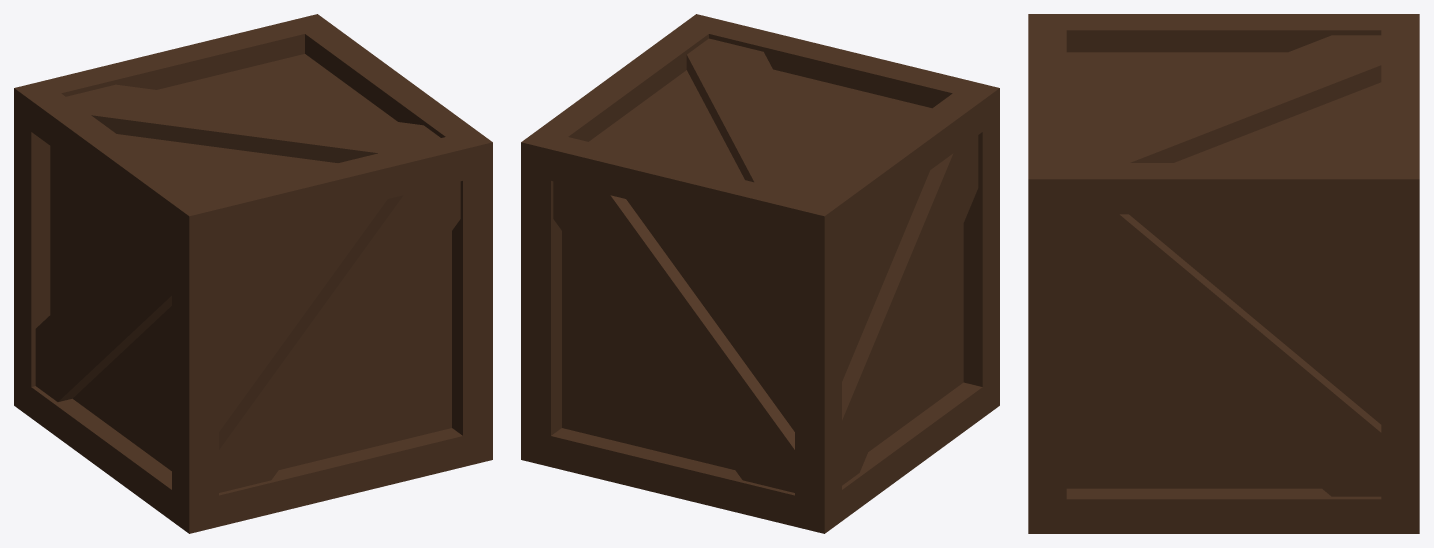
Rendered from crate.obj.
3 renders of one model, left to right at view 1: azimuth 30°, elevation 25°; view 2: azimuth 150°, elevation 25°; view 3: azimuth 270°, elevation 25°, orthographic. The views are drawn at different scales.
Visible parts, largest first — view 1: crate_Cube.023; view 2: crate_Cube.023; view 3: crate_Cube.023.
Boxes of the visible parts, left/top/right/bottom form: crate_Cube.023: left=14, top=14, right=492, bottom=533; crate_Cube.023: left=521, top=14, right=999, bottom=533; crate_Cube.023: left=1028, top=14, right=1419, bottom=533.
Size of the model in its own units: 1.1 by 1.1 by 1.1.
